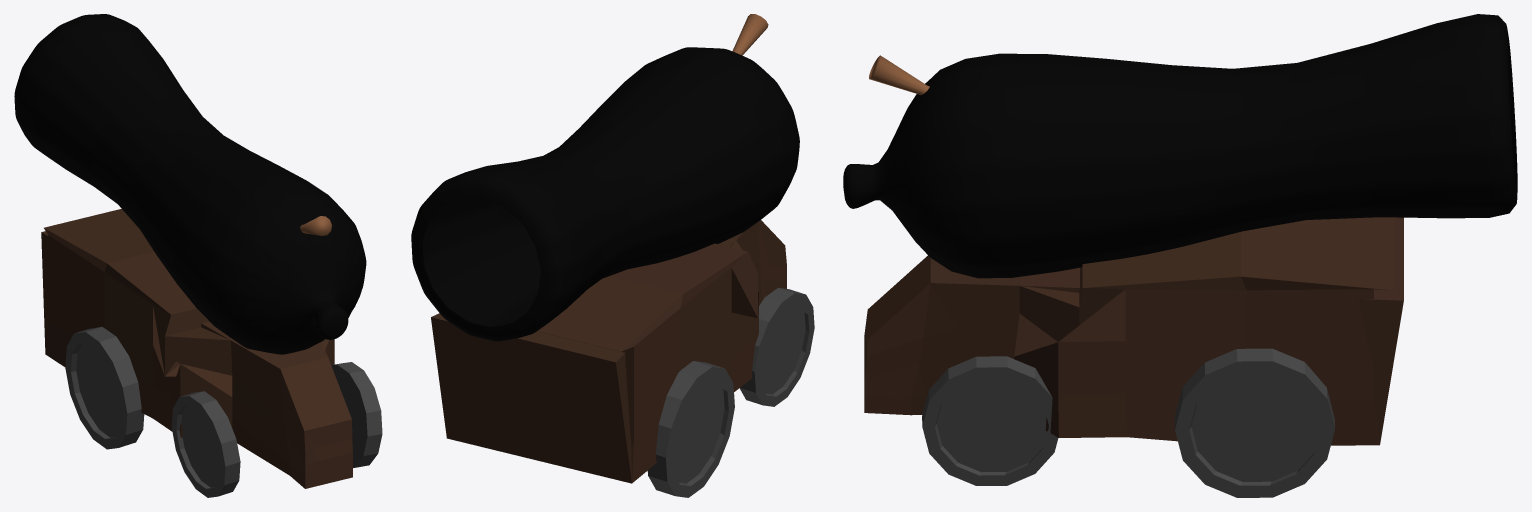
Rendered from Canon.fbx.
3 renders of one model, left to right at view 1: azimuth 30°, elevation 25°; view 2: azimuth 150°, elevation 25°; view 3: azimuth 270°, elevation 25°, orthographic. The views are drawn at different scales.
Parts seen in each view (by area): view 1: Canon, Stand, Tire, Tire.001, Tire.003, Flint; view 2: Canon, Stand, Tire, Tire.001, Flint; view 3: Canon, Stand, Tire.002, Tire.003, Flint.
Part boxes in pixels (x1=…): Canon: x1=14, y1=14, x2=366, y2=354; Stand: x1=41, y1=208, x2=352, y2=488; Tire: x1=65, y1=327, x2=144, y2=449; Tire.001: x1=171, y1=391, x2=240, y2=497; Tire.003: x1=331, y1=362, x2=382, y2=467; Flint: x1=300, y1=216, x2=331, y2=235; Canon: x1=411, y1=47, x2=799, y2=341; Stand: x1=431, y1=220, x2=786, y2=483; Tire: x1=647, y1=361, x2=734, y2=497; Tire.001: x1=739, y1=287, x2=814, y2=406; Flint: x1=732, y1=14, x2=768, y2=55; Canon: x1=843, y1=14, x2=1517, y2=278; Stand: x1=864, y1=217, x2=1403, y2=445; Tire.002: x1=1174, y1=348, x2=1334, y2=497; Tire.003: x1=922, y1=356, x2=1058, y2=485; Flint: x1=869, y1=55, x2=929, y2=94.
Size of the model in its own units: 1.54 by 2.57 by 3.63.
